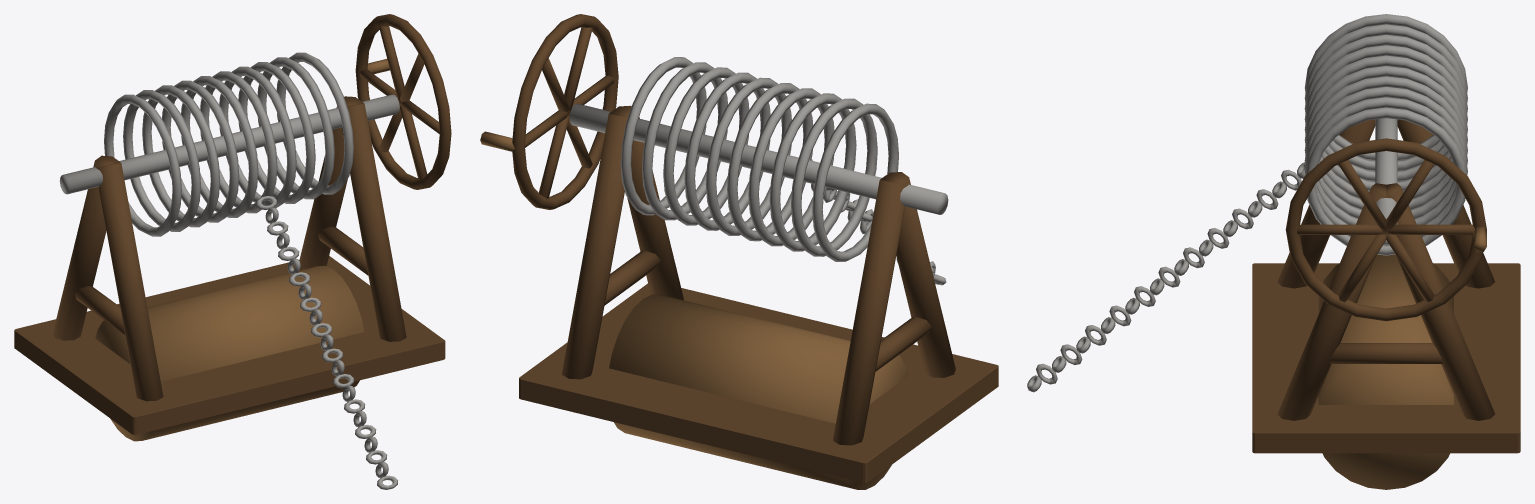
File: winde.glb
3 renders of one model, left to right at view 1: azimuth 30°, elevation 25°; view 2: azimuth 150°, elevation 25°; view 3: azimuth 270°, elevation 25°, orthographic. The views are drawn at different scales.
Parts seen in each view (by area): view 1: Cone; view 2: Cone; view 3: Cone.
Part boxes in pixels (bbox=[...]): Cone: bbox=[14, 14, 451, 489]; Cone: bbox=[480, 14, 998, 489]; Cone: bbox=[1027, 14, 1520, 489].
Bounding box in the file's own units: 2.13 × 1.92 × 2.2.
